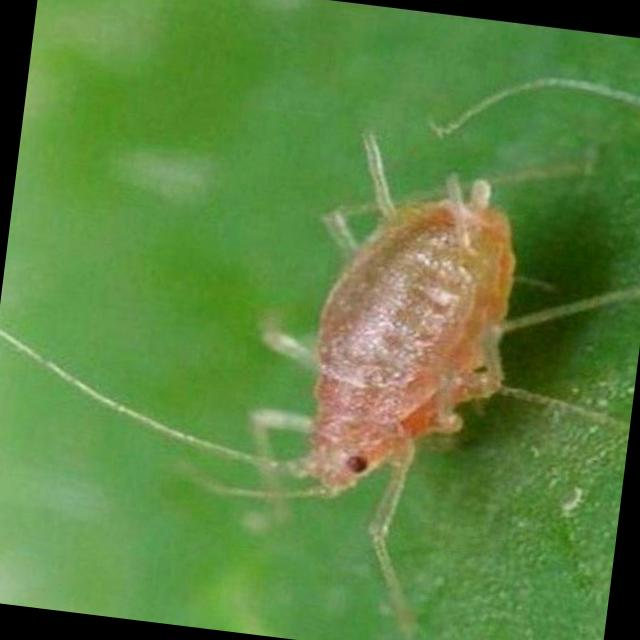aphid: (79, 10, 640, 640)
